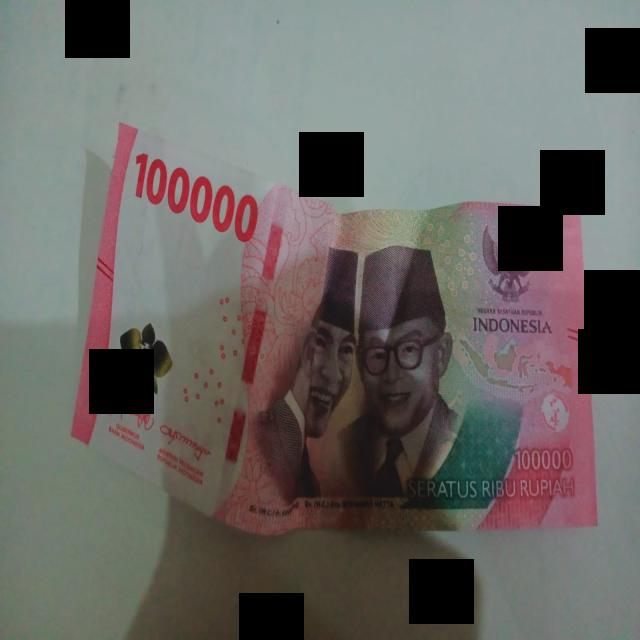seratusribu rupiah: (72, 125, 598, 535)
